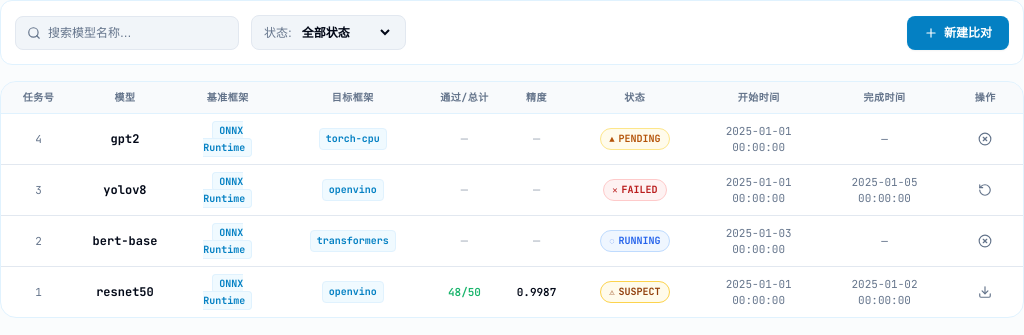
Test: TaskTable › status filter › uses local state for filter when no controlled props given
Expected: the text "resnet50" is shown, left=96, top=284, right=154, bottom=300
Expected: the text "gpt2" is shown, left=111, top=131, right=139, bottom=147
Select "failed"
Select "FAILED" in the dropdown at (345, 32), box left=298, top=24, right=393, bottom=41
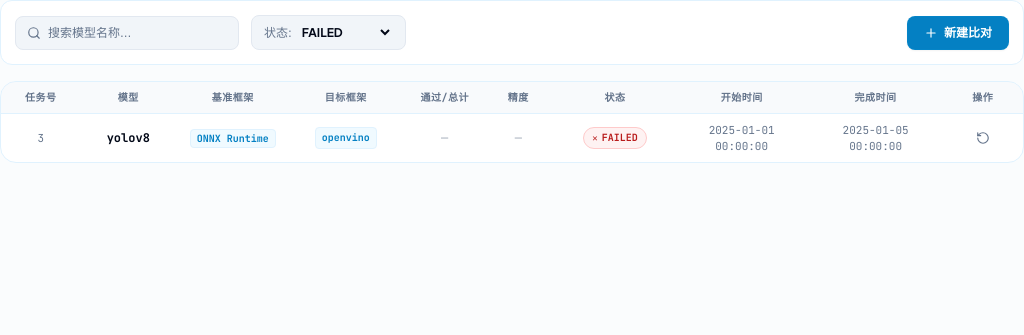
Now the text "resnet50" is gone
Now the text "bert-base" is gone
Now the text "gpt2" is gone
